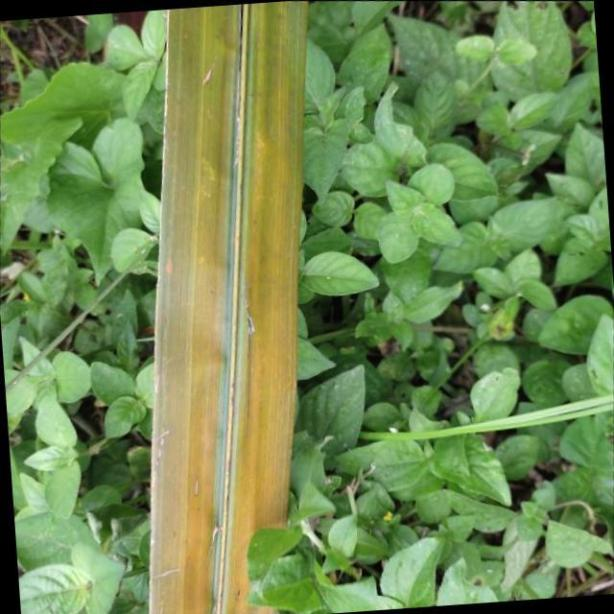Megnesium: (146, 0, 308, 614)
